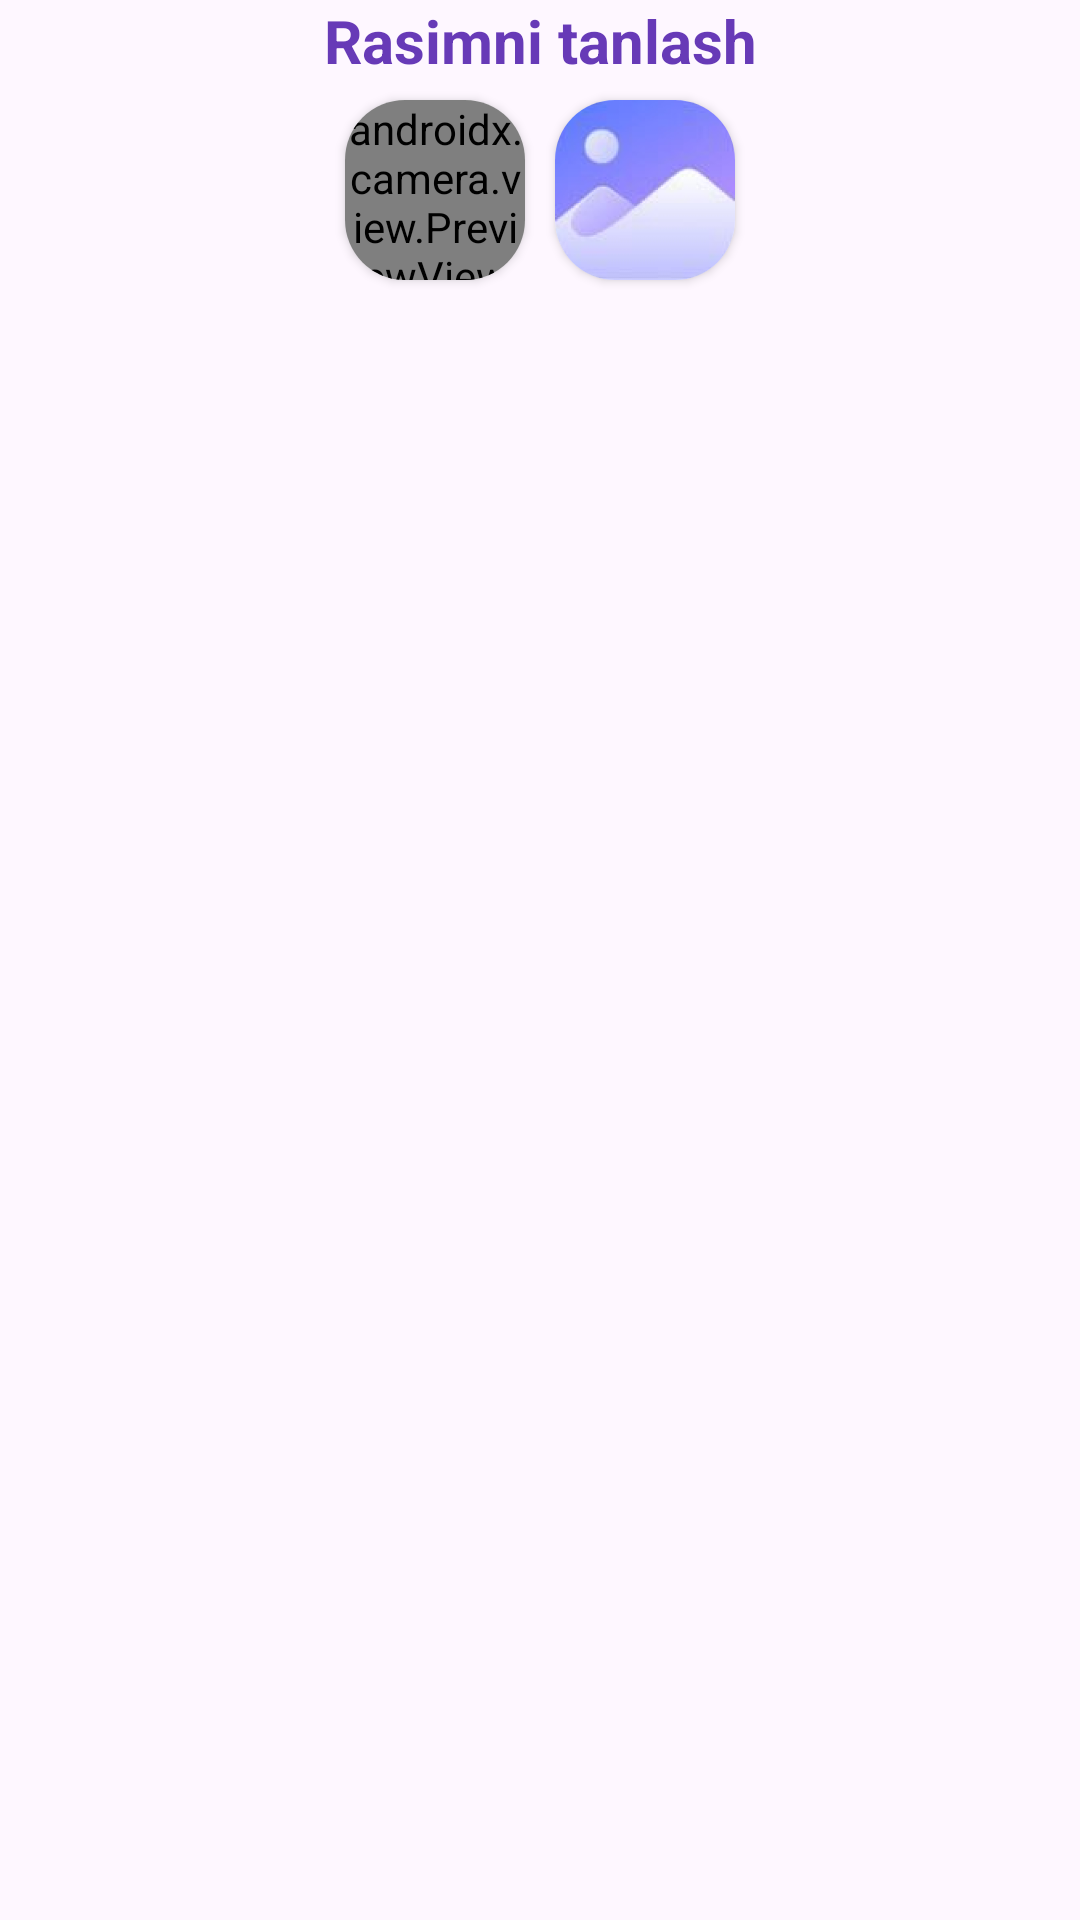

Point at icon controls on the screen. Image size 1080*1920, points as point (x, y).
galery: point (645, 190)
